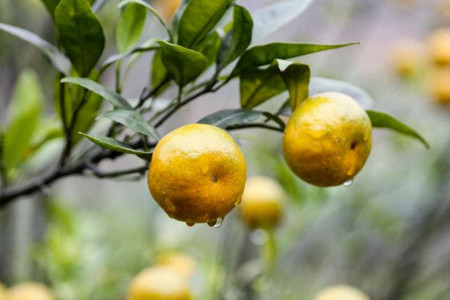orange: (147, 124, 245, 224), (284, 93, 372, 187)
